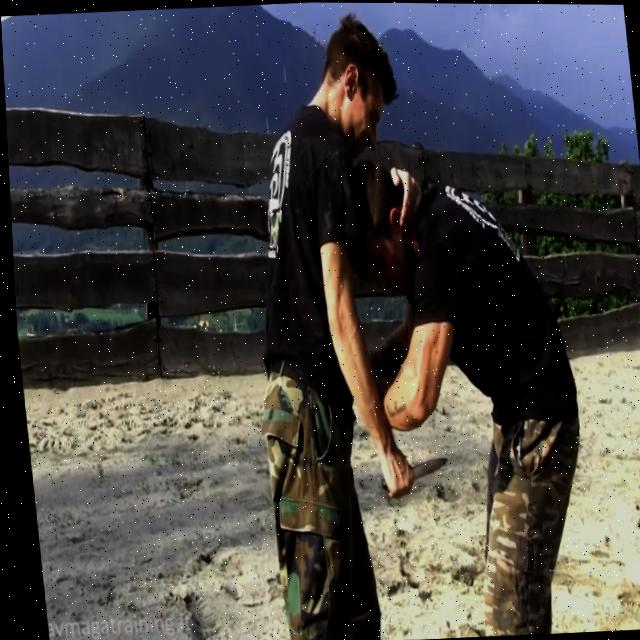knife: (404, 455, 445, 482)
